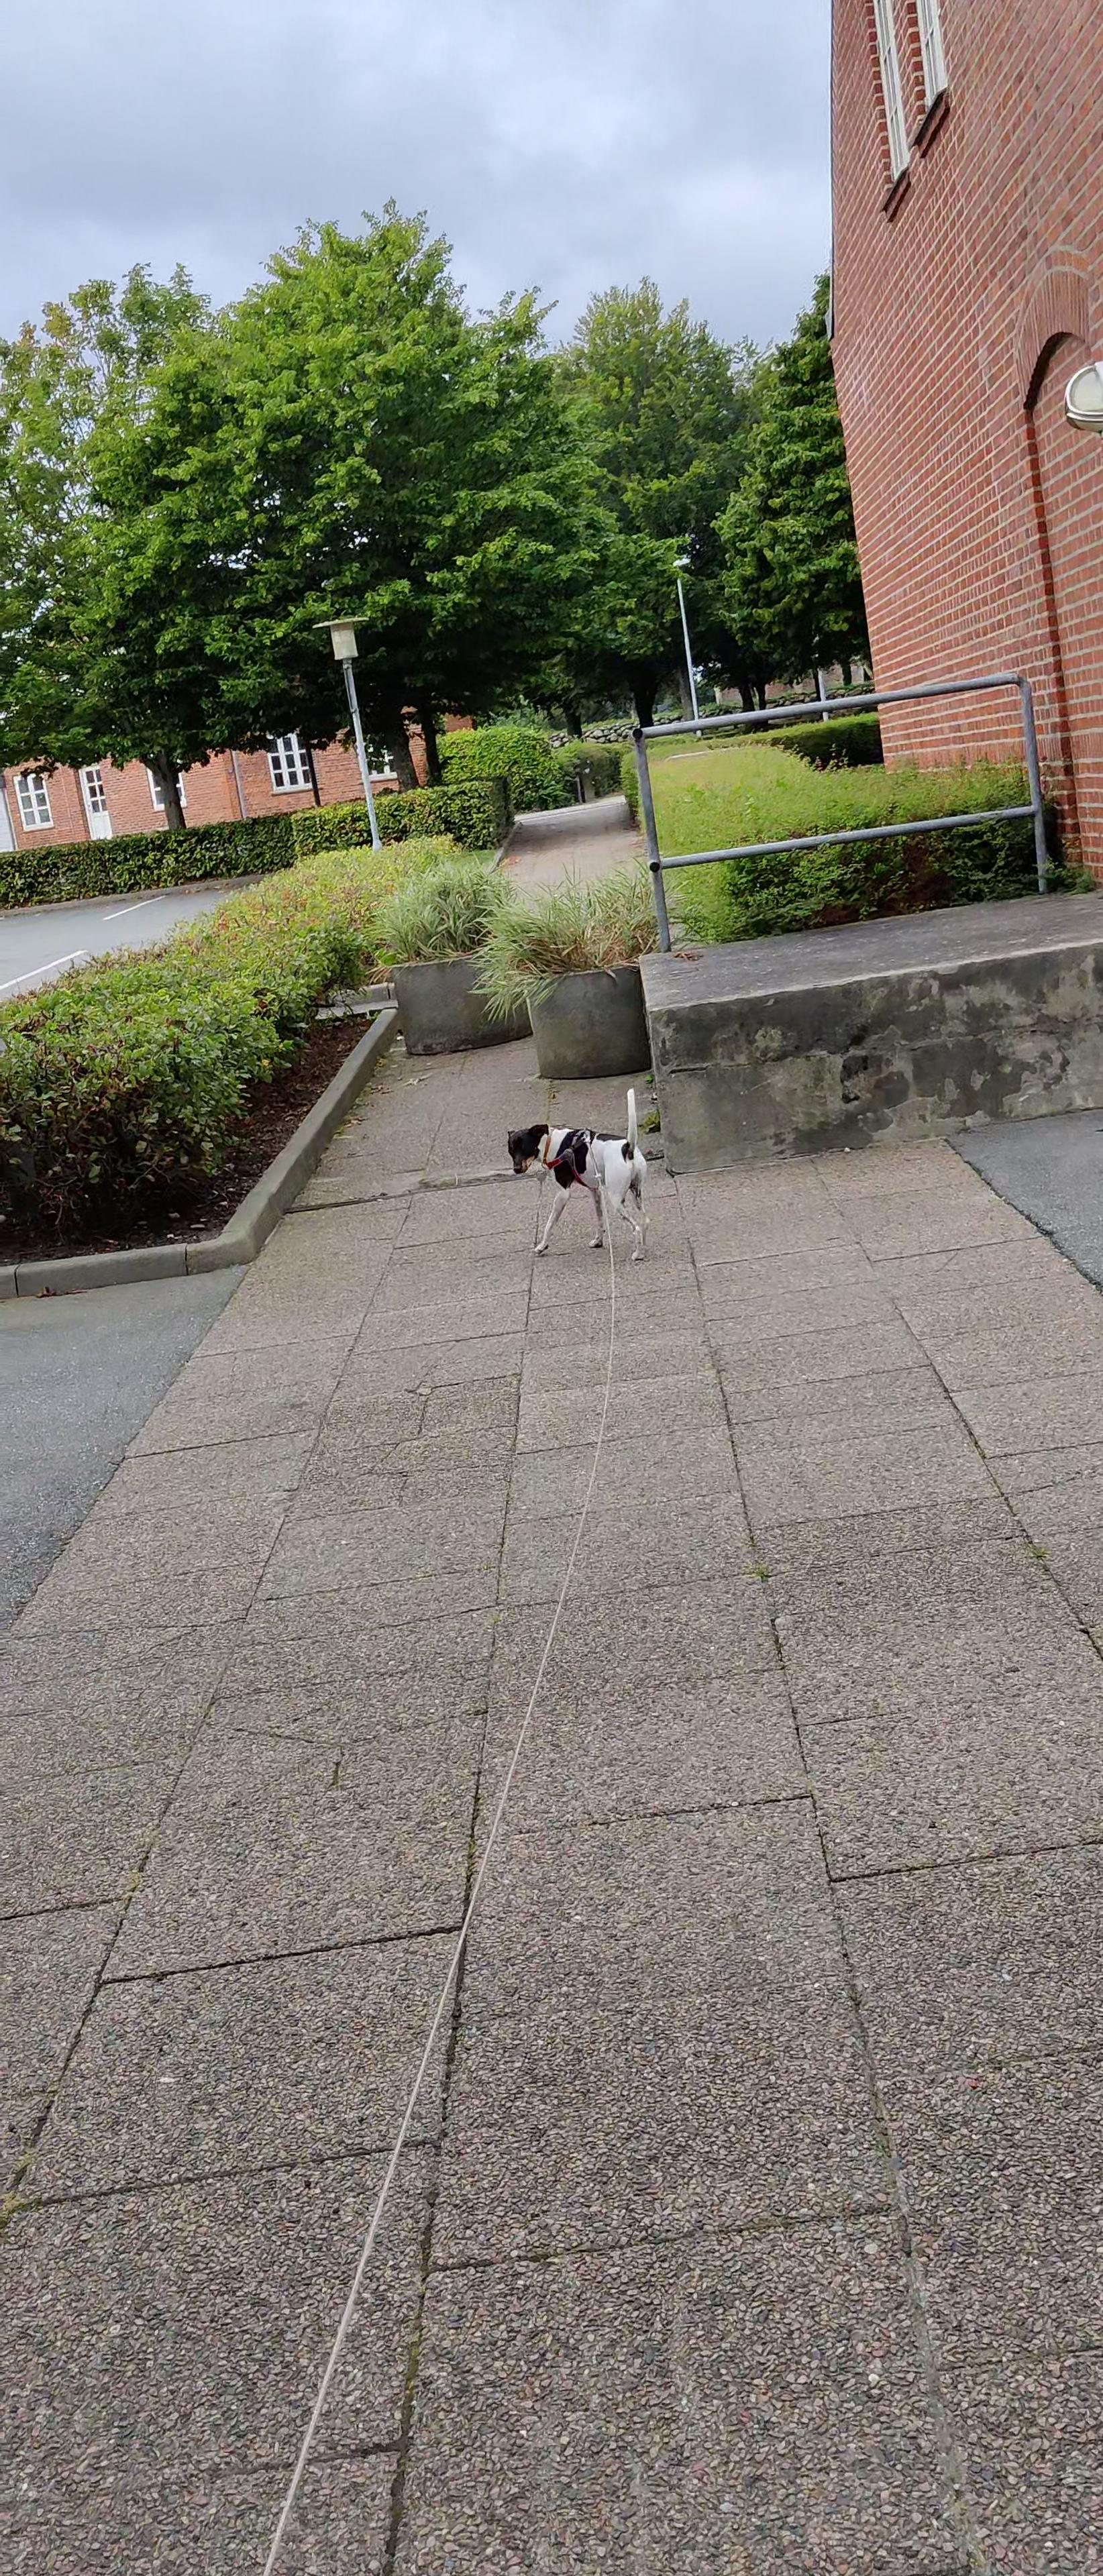Dog: (500, 1084, 658, 1263)
